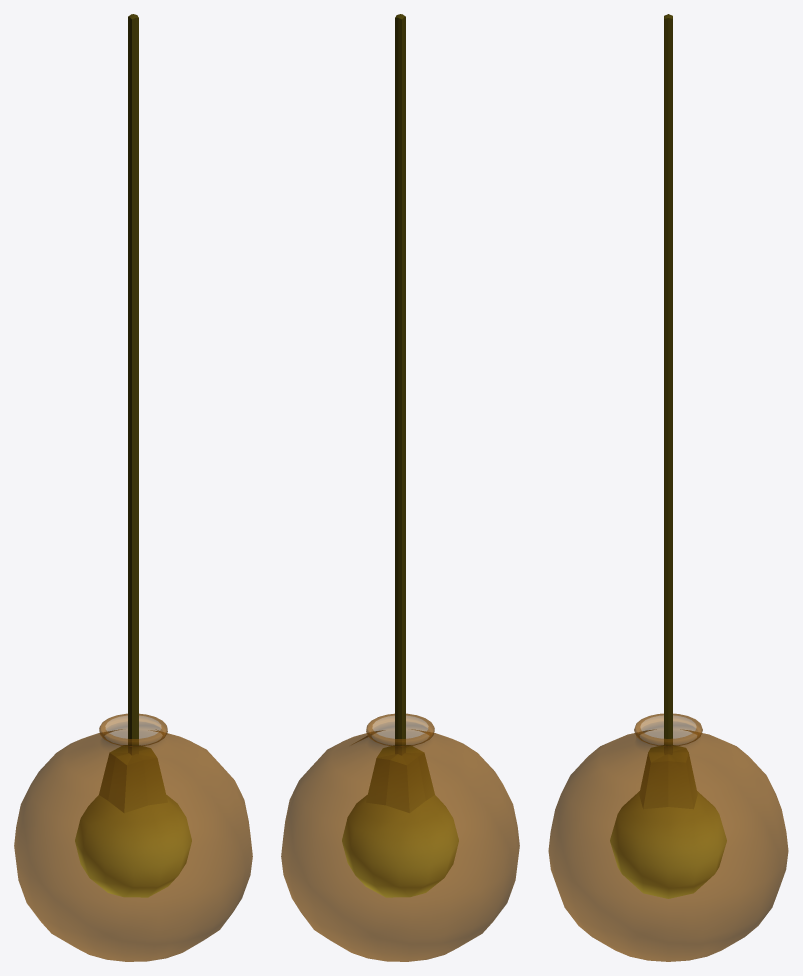
File: hanginglight01.fbx
3 renders of one model, left to right at view 1: azimuth 30°, elevation 25°; view 2: azimuth 150°, elevation 25°; view 3: azimuth 270°, elevation 25°, orthographic.
Parts seen in each view (by area): view 1: hanginglight01; view 2: hanginglight01; view 3: hanginglight01.
Part boxes in pixels (bbox=[...]): hanginglight01: bbox=[14, 14, 252, 961]; hanginglight01: bbox=[281, 14, 519, 961]; hanginglight01: bbox=[548, 14, 788, 961].
Bounding box in the file's own units: 1.15 × 4.97 × 1.15.
